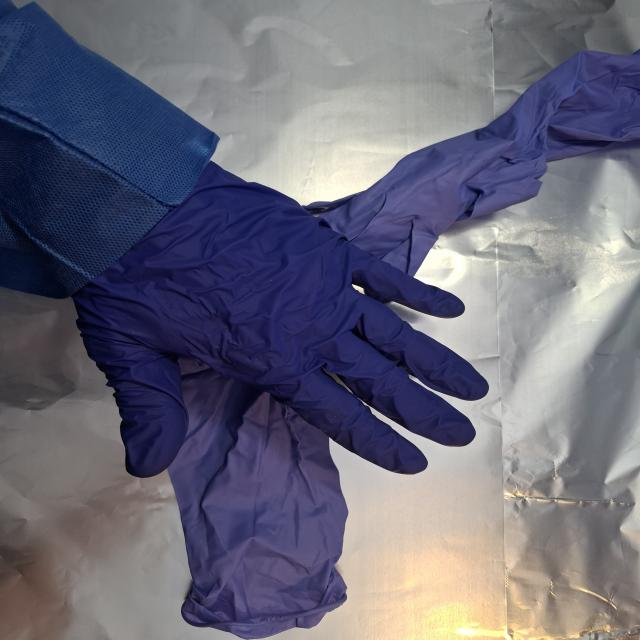glove_on: (70, 159, 493, 481)
